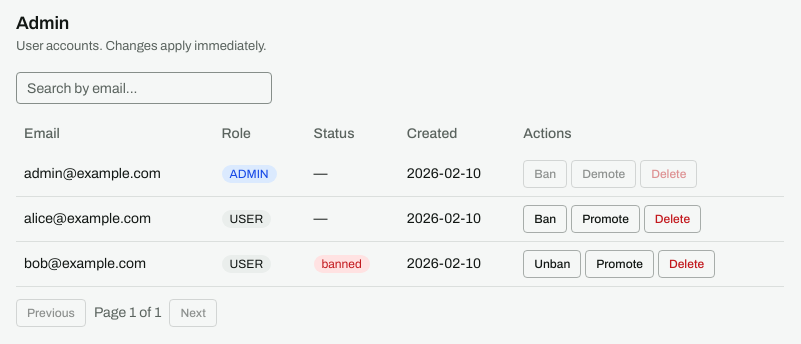
Test case: AdminPage › Ban / Promote flip the row’s buttons from server state once the action completes
Expected: the text "alice@example.com" is shown, [16, 197, 214, 242]
Click the button "Ban" in the row of "alice@example.com".
click(545, 219)  # box [523, 205, 567, 233]
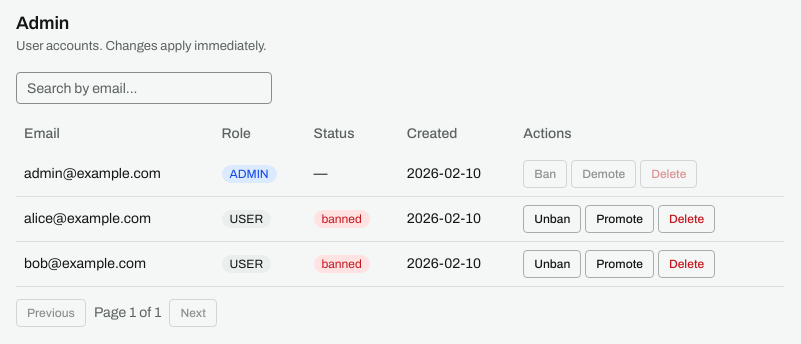
Now the button "Unban" in the row of "alice@example.com" is shown, box [523, 205, 581, 233]
Now the text "banned" in the row of "alice@example.com" is shown, box [322, 212, 362, 226]
Click the button "Promote" in the row of "alice@example.com".
click(620, 219)  # box [585, 205, 654, 233]
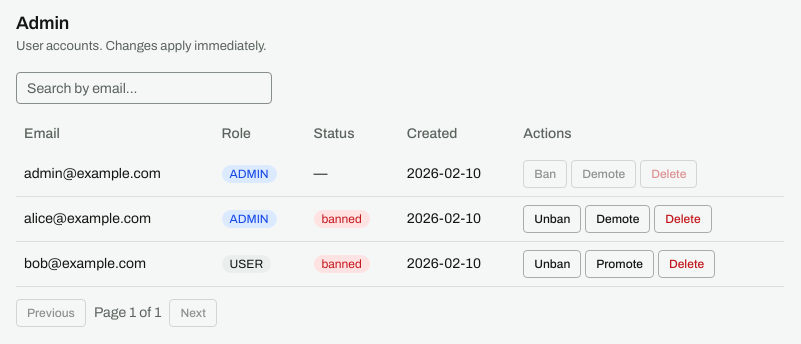
Now the button "Demote" in the row of "alice@example.com" is shown, box [585, 205, 650, 233]
